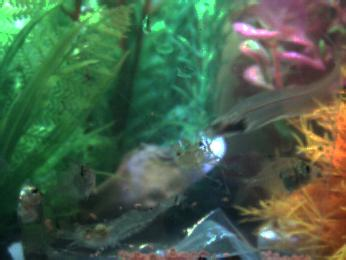X-ray fish: (233, 155, 323, 198), (16, 175, 50, 253), (43, 155, 98, 202)
glassfish: (202, 29, 344, 141)
siberian prawn: (52, 193, 183, 252), (166, 137, 211, 172)
